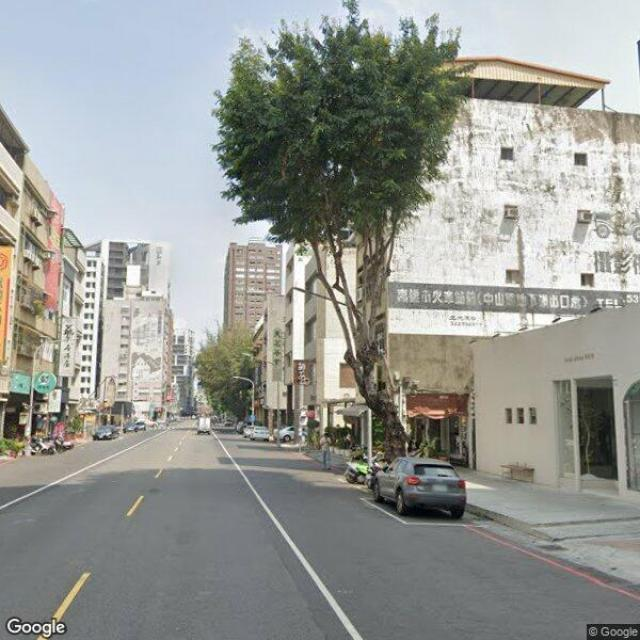Legalparking: (339, 448, 487, 546)
